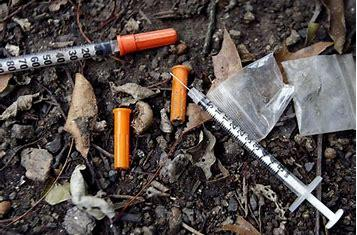Syringe: (165, 72, 345, 230), (0, 24, 180, 65)
